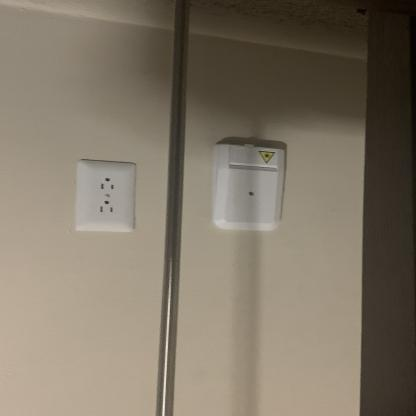OUTLET: (76, 163, 136, 231)
